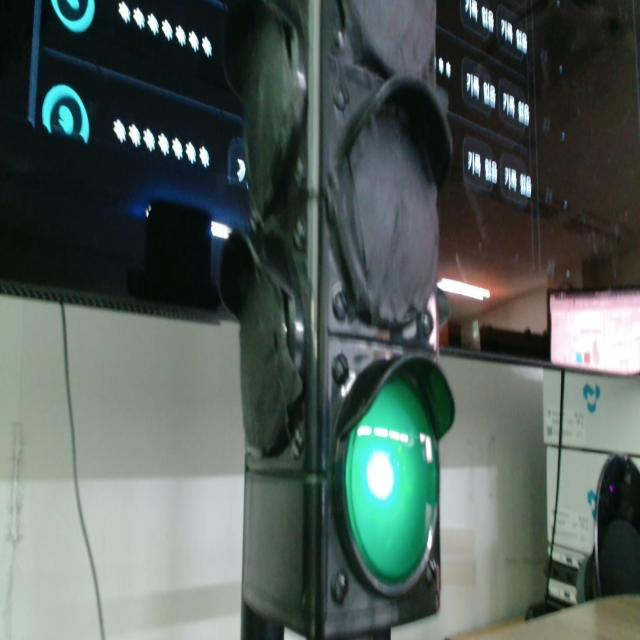green_light: (345, 377, 438, 584)
